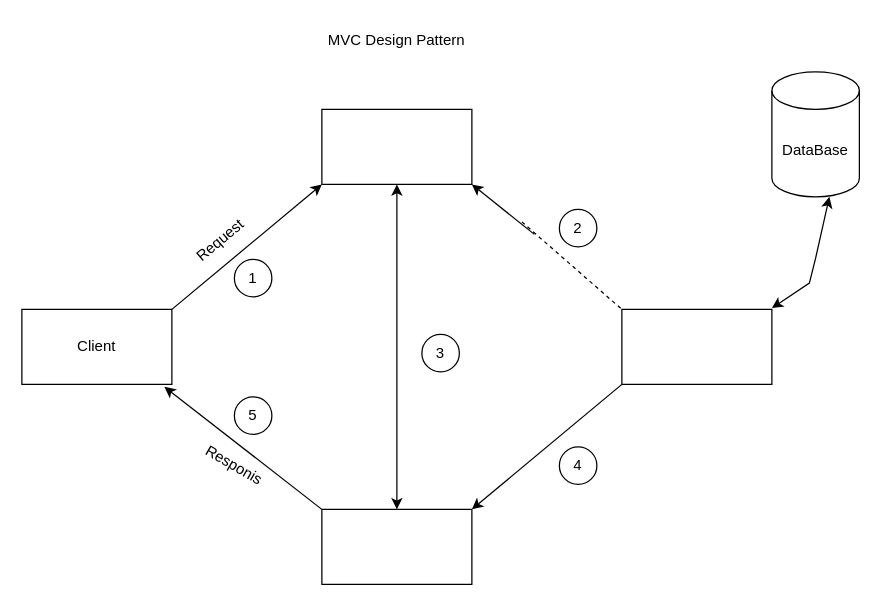
Some shapes in this 881 by 606 pixel diagram are drawn without their labels. The centre of each missing label's shape, as x and y in pixels:
Controller: pixel 396 146
Model: pixel 696 346
View: pixel 396 546
